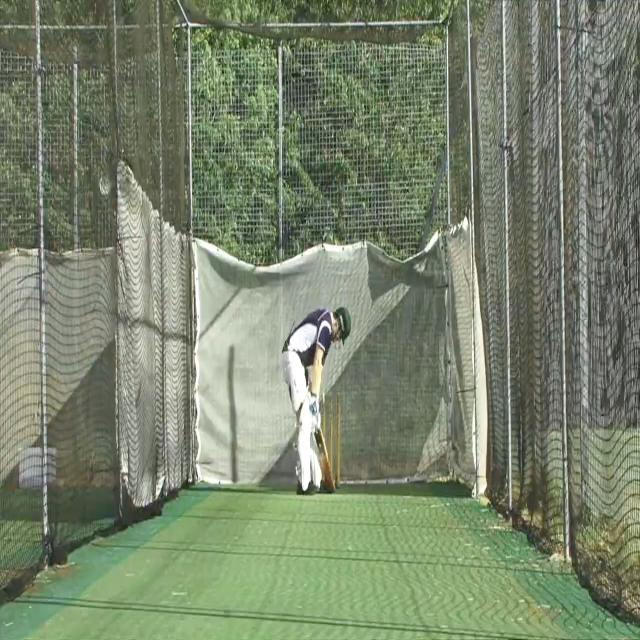batsman: (280, 304, 352, 497)
